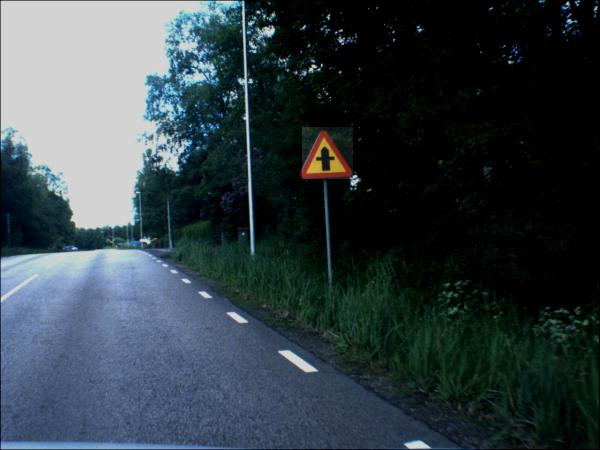WARNING: (303, 128, 355, 181)
